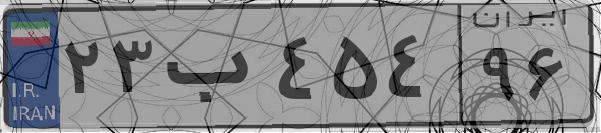2: (57, 26, 110, 100)
3: (110, 28, 158, 98)
4: (270, 28, 330, 110), (385, 28, 445, 110)
5: (330, 28, 385, 110)
6: (525, 38, 570, 115)
9: (475, 38, 525, 113)
ب: (158, 20, 270, 120)
